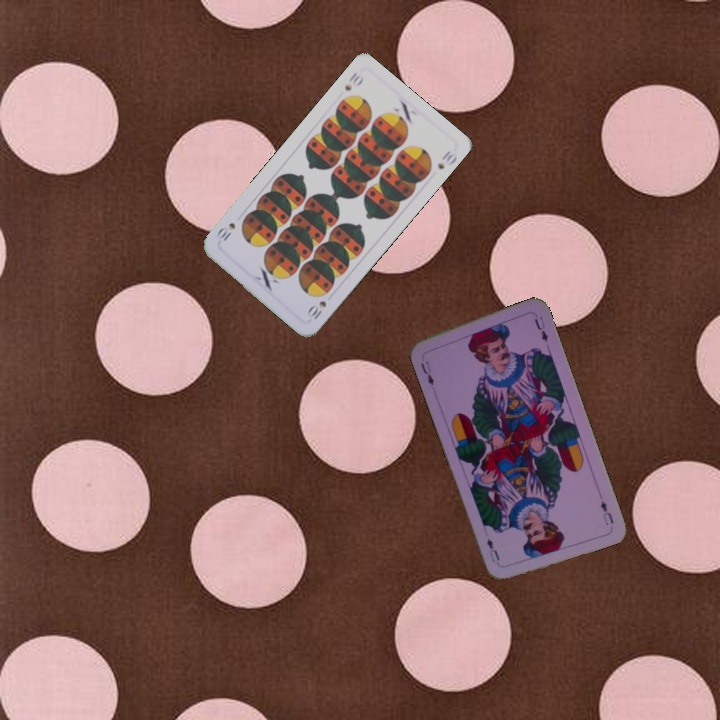EU: (417, 357, 437, 388), (596, 497, 616, 528)
S10: (303, 296, 329, 322), (340, 68, 366, 93)
